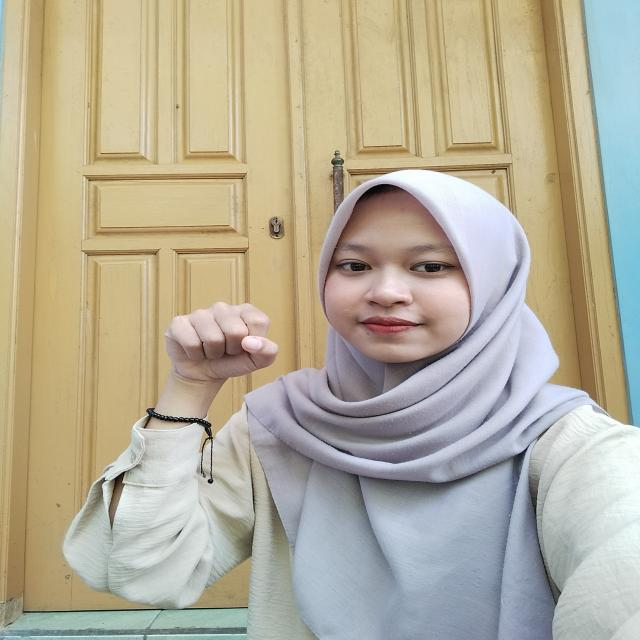baik: (138, 300, 290, 461)
